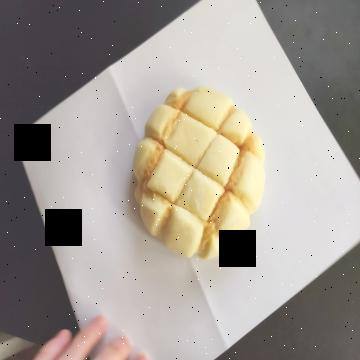melon_bread: (132, 84, 267, 261)
